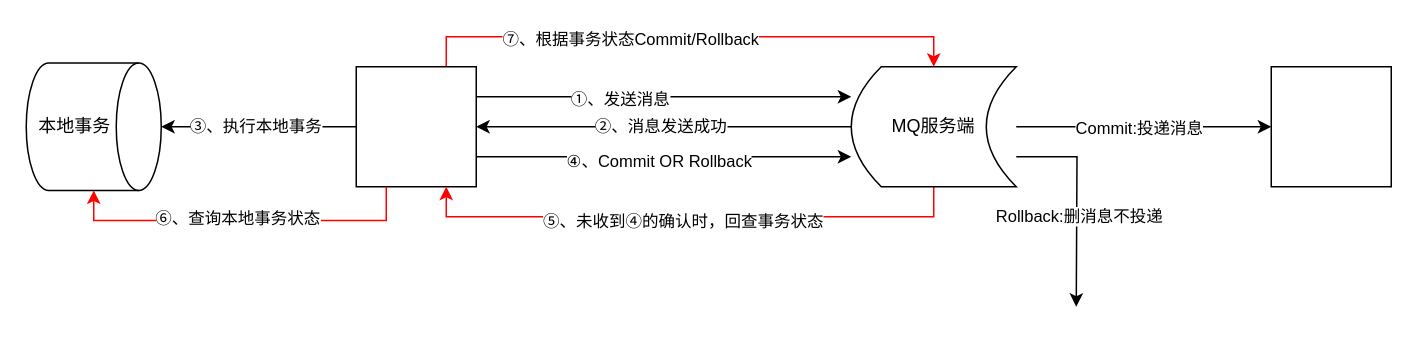
Image size: 1418x345. Some labels were removed from this diagram. Each missing label, with the centre of its shape:
MQ发送方: the point at 415,126
MQ订阅方: the point at 1330,126
